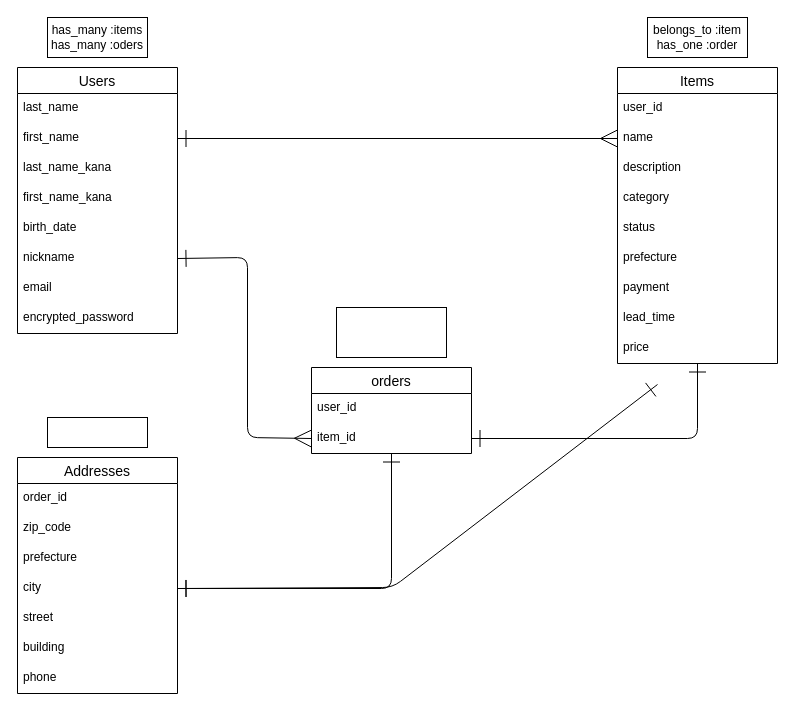
The diagram is 795 pixels wide and 714 high, and some of its shapes have lost their labels. Here are the shapes that lost their labels. From the top down, the centre of each, then its label:
At (391,332): "belongs_to :user belongs_to :item has_one :address".
At (97,432): "belongs_to :oder".
